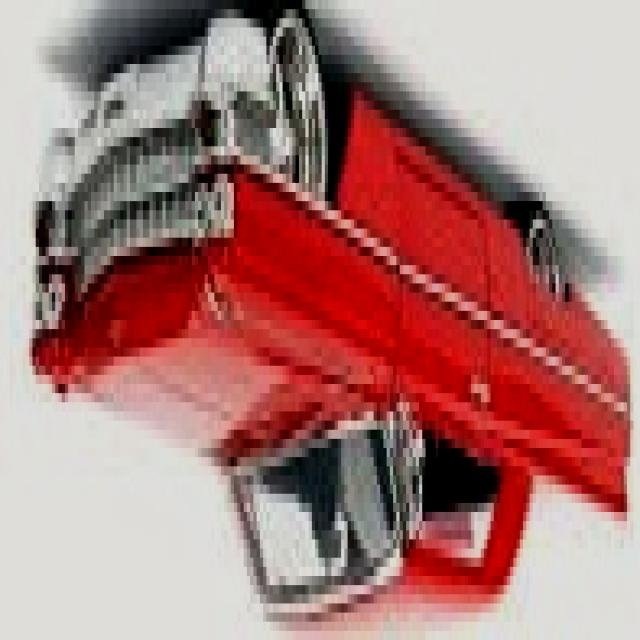red: (33, 91, 640, 630)
